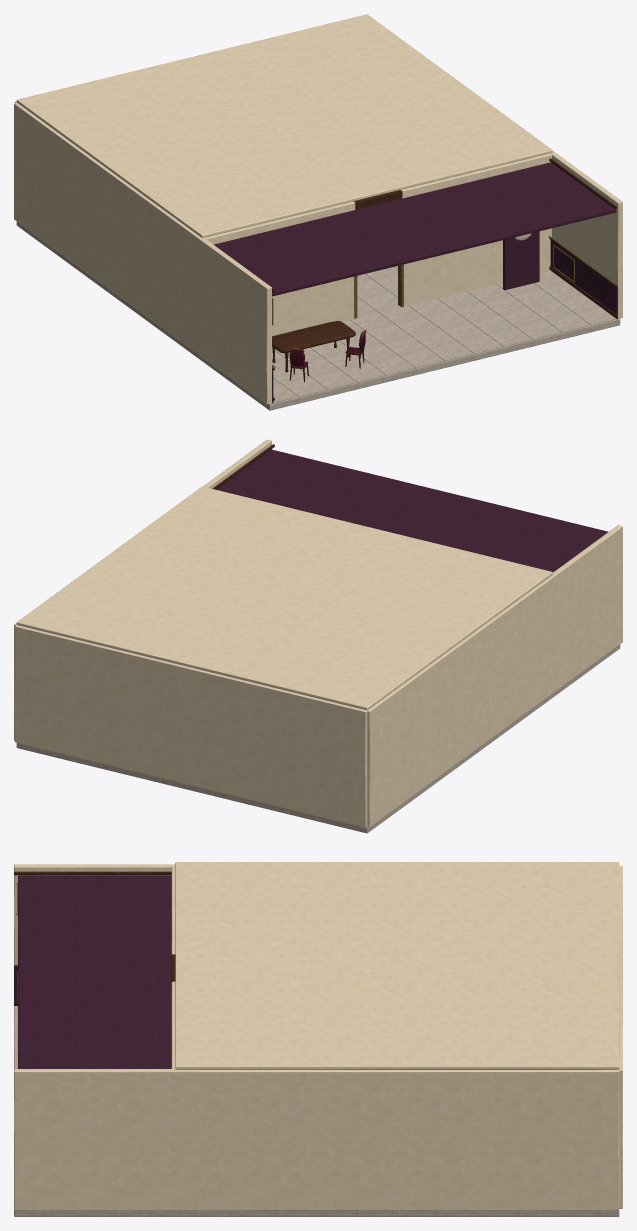
Rendered from souvenir_shop.glb.
The picture shows the model from 3 angles, top to bottom: view 1: azimuth 30°, elevation 25°; view 2: azimuth 150°, elevation 25°; view 3: azimuth 270°, elevation 25°; orthographic projection. The views are drawn at different scales.
Parts seen in each view (by area): view 1: Rebuilt_souvenir_shop; view 2: Rebuilt_souvenir_shop; view 3: Rebuilt_souvenir_shop.
Part boxes in pixels (bbox=[...]): Rebuilt_souvenir_shop: bbox=[14, 14, 622, 410]; Rebuilt_souvenir_shop: bbox=[14, 439, 622, 833]; Rebuilt_souvenir_shop: bbox=[14, 862, 622, 1216].
Size of the model in its own units: 12.18 by 4.12 by 15.09.
Materials: 13 (12 with a texture image).
